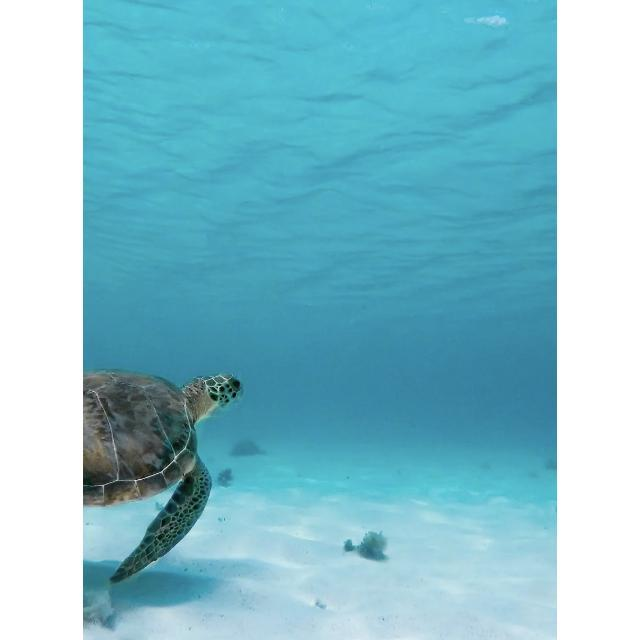turtle: (84, 371, 244, 587)
